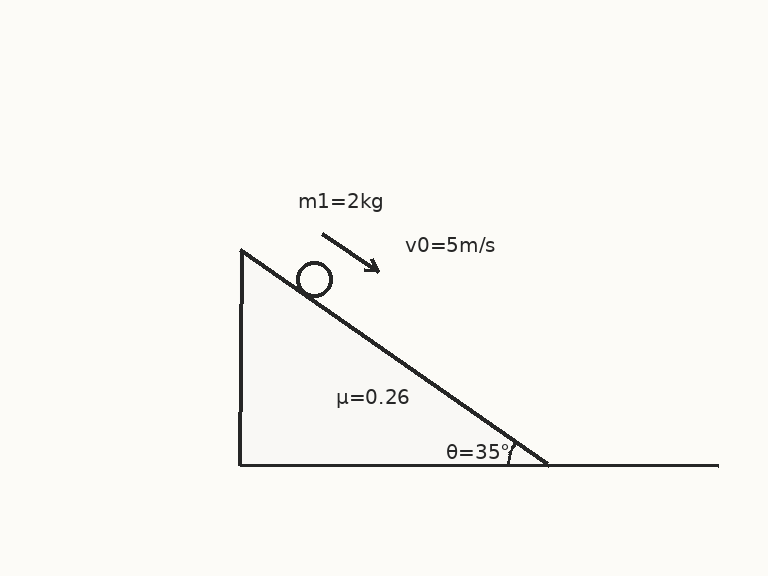ball: (294, 259, 334, 299)
ramp: (238, 247, 550, 467)
